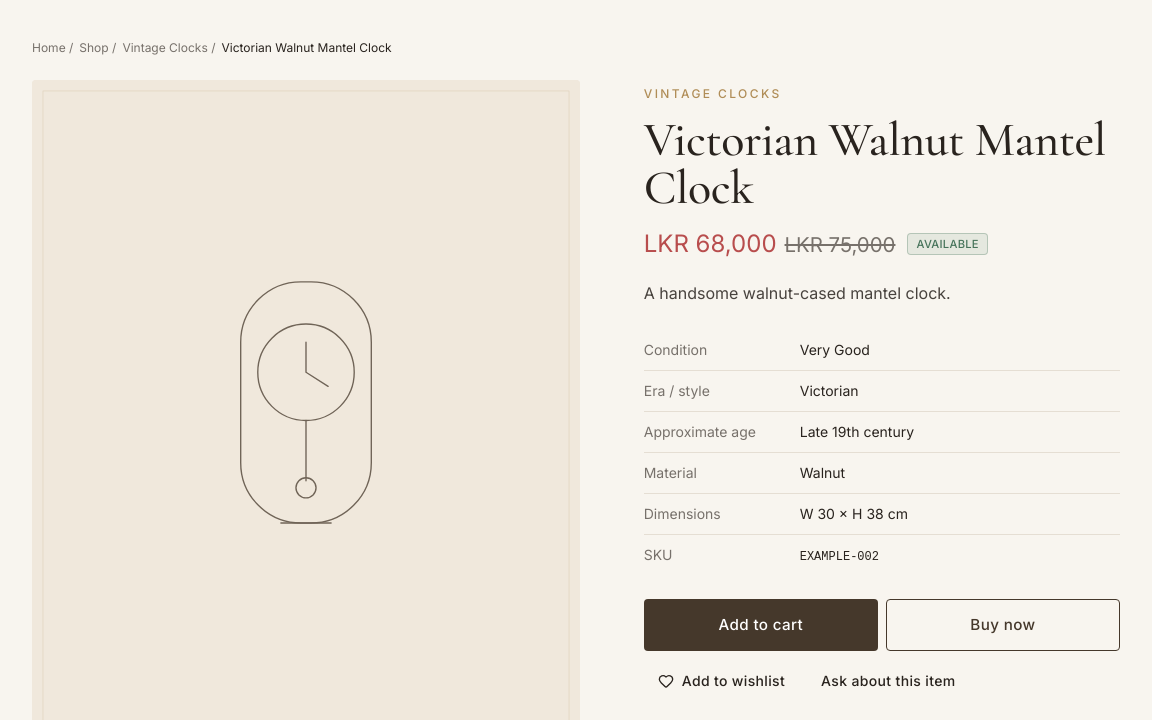
Product details › adds an available piece to the guest cart only once
The width and height of the screenshot is (1152, 720).
Step 1. Click the button "Add to cart" → (761, 625), box [644,599,878,651]
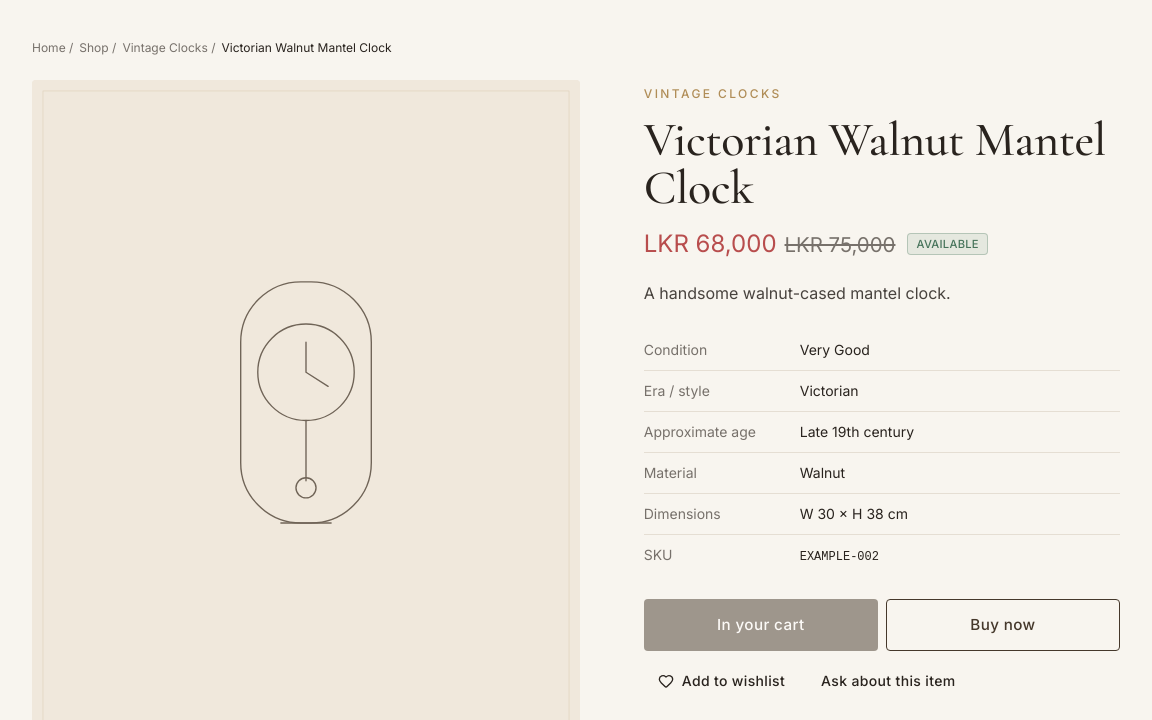
Now the button "In your cart" is disabled, box [644,599,878,651]
